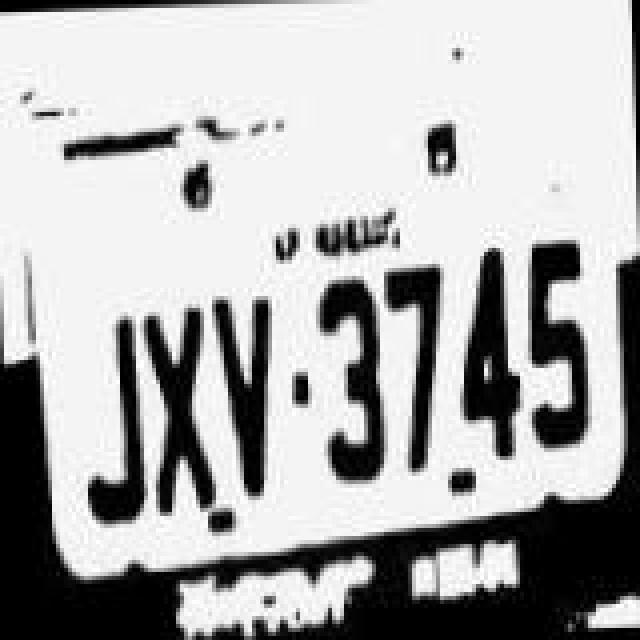3: (306, 278, 386, 502)
4: (442, 238, 522, 458)
5: (518, 228, 602, 452)
7: (376, 256, 452, 476)
J: (70, 308, 146, 540)
V: (206, 278, 278, 506)
X: (140, 272, 216, 516)
